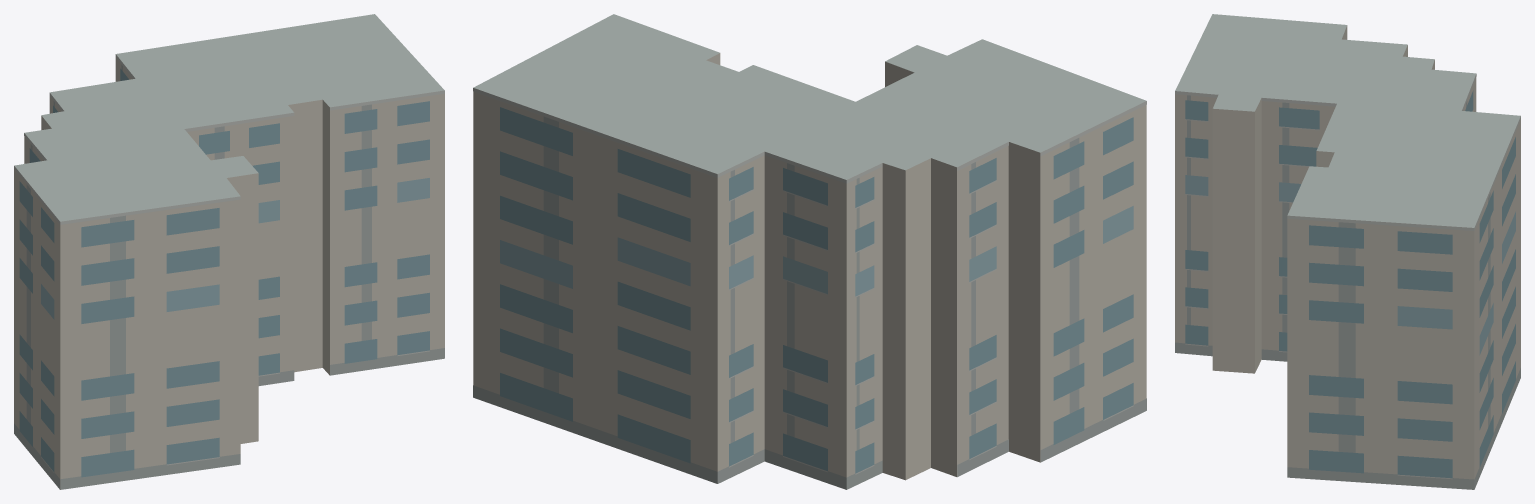
Rendered from survey-upis-32653812.glb.
The picture shows the model from 3 angles, left to right: view 1: azimuth 30°, elevation 25°; view 2: azimuth 150°, elevation 25°; view 3: azimuth 270°, elevation 25°; orthographic projection. The views are drawn at different scales.
Visible parts, largest first — view 1: survey-upis-32653812.tmp; view 2: survey-upis-32653812.tmp; view 3: survey-upis-32653812.tmp.
Boxes of the visible parts, x1,y1,x2,y2 form: survey-upis-32653812.tmp: (14, 14, 444, 489); survey-upis-32653812.tmp: (473, 14, 1146, 489); survey-upis-32653812.tmp: (1175, 14, 1520, 489).
Size of the model in its own units: 35.39 by 20.2 by 24.18.
